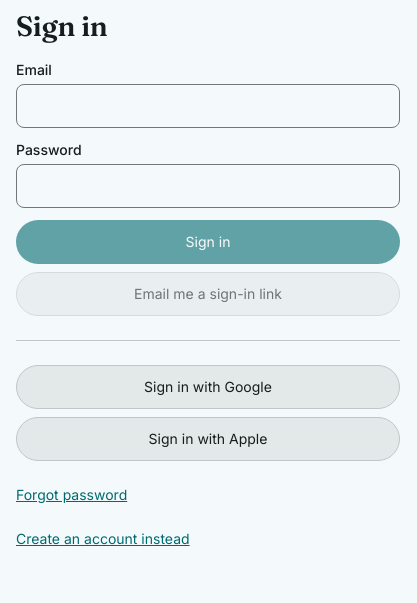
Test: SignInPage (issue #1250) › shows the send error, not a stale password error, when the send follows a rejected password (issue #1345)
Type "a@b.co" into the field labelled "Email".
click(208, 106); type("a@b.co")  # box [16,84,400,128]
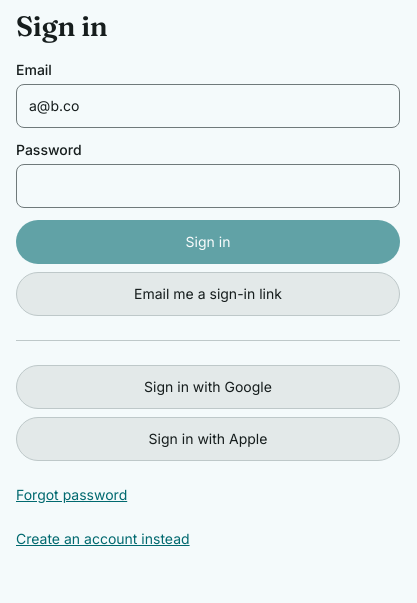
Type "wrong" into the password field labelled "Password".
click(208, 186); type("wrong")  # box [16,164,400,208]
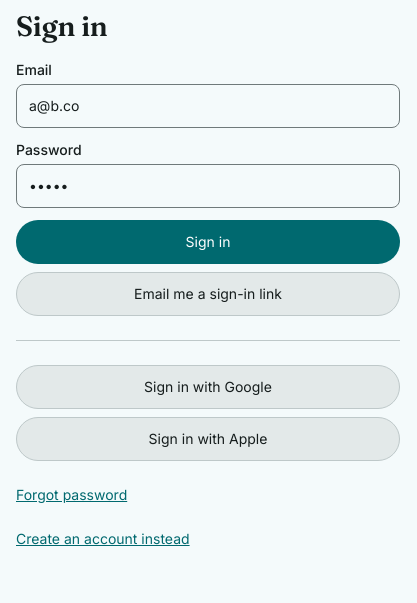
Click the button "Sign in".
click(208, 242)  # box [16,220,400,264]
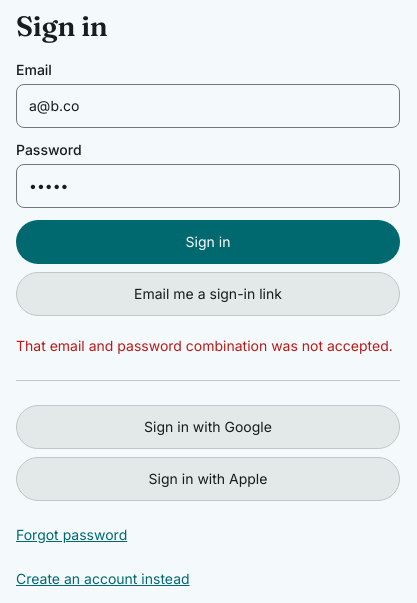
Now the text "That email and password combination was not accepted." is shown, box [16,336,400,356]
Click the button "Email me a sign-in link".
click(208, 294)  # box [16,272,400,316]
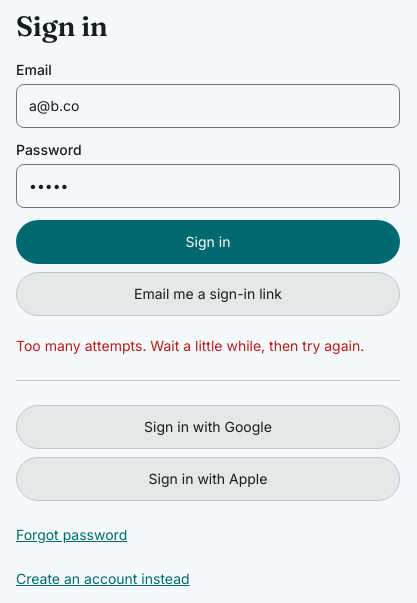
Now the text "Too many attempts. Wait a little while, then try again." is shown, box [16,336,400,356]
Now the text "That email and password combination was not accepted." is gone
